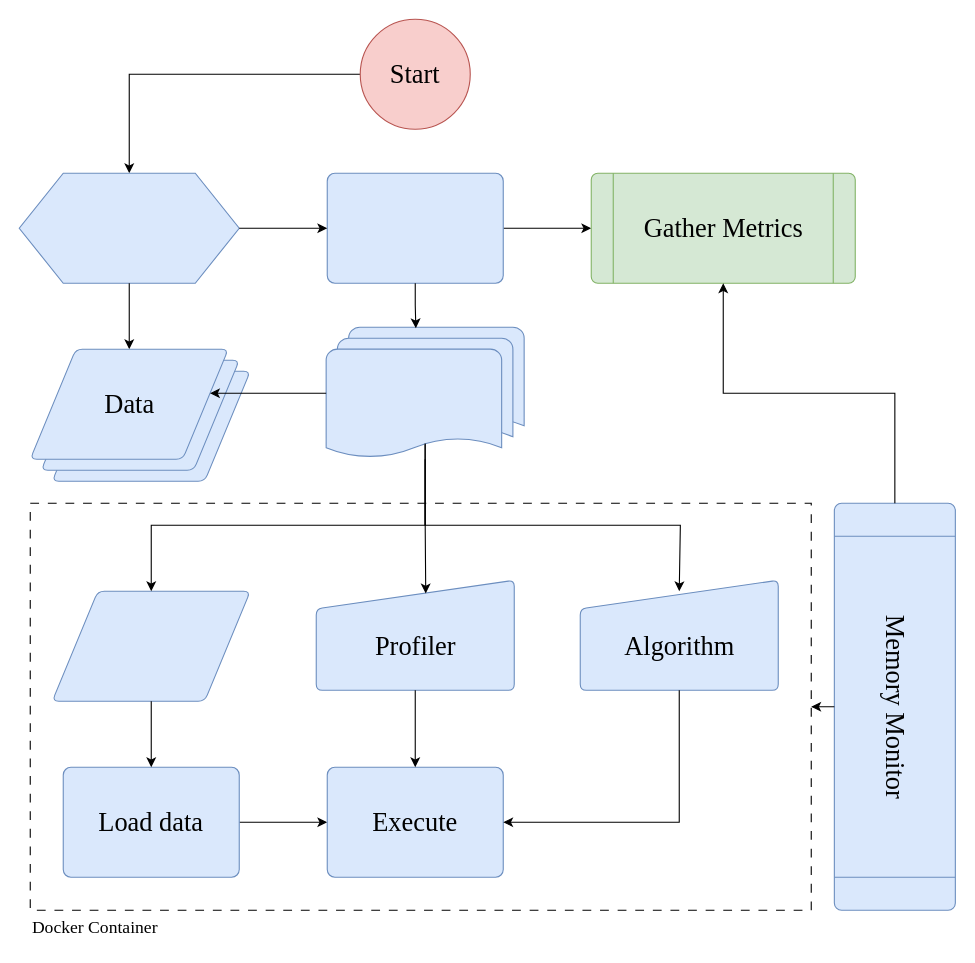
This 975x963 diagram has some shape labels left out. The box of each missing label's shape, as (x1, y1, x2, y2) in pixels:
Execute Combinations: (325, 326, 524, 459)
Generate Data: (18, 172, 239, 283)
Process: (326, 172, 503, 283)
Selected Data: (51, 590, 250, 701)
